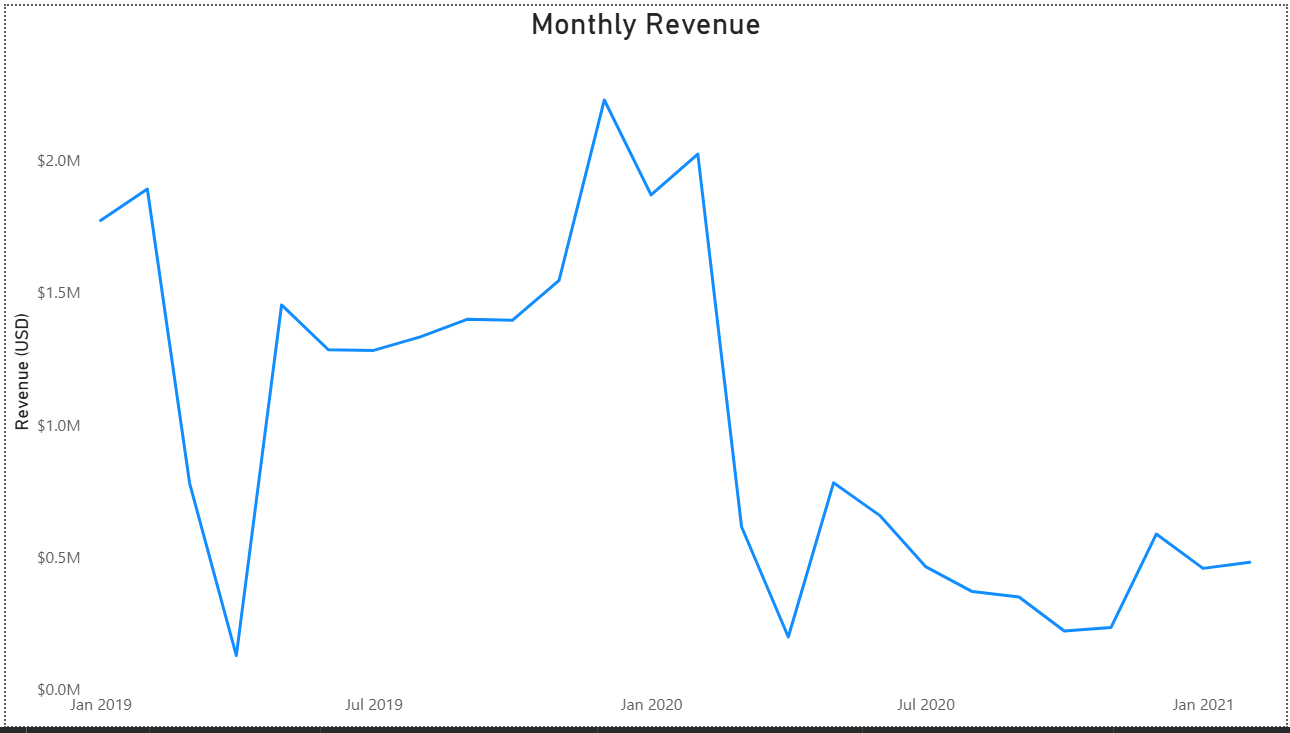

The page's visual inventory and layout, read from the dashboard file:
{"tool":"powerbi","page":{"name":"Monthly Revenue","canvas":[1280,720],"ordinal":1},"visuals":[{"type":"lineChart","title":"Monthly Revenue","fields":{"Y":["Sum(tbl_qry_sales_cleaned.usd_price)"],"Category":["tbl_qry_sales_cleaned.order_month"]},"box":[0,0,1280,720],"z":1000}]}

Visuals, with their boxes in screenshot pixels (x1, y1, x2, y2), scaled from the page's 1280x720 canvas onto the 1290x733 screenshot:
"Monthly Revenue" lineChart: 0/0/1289/732
